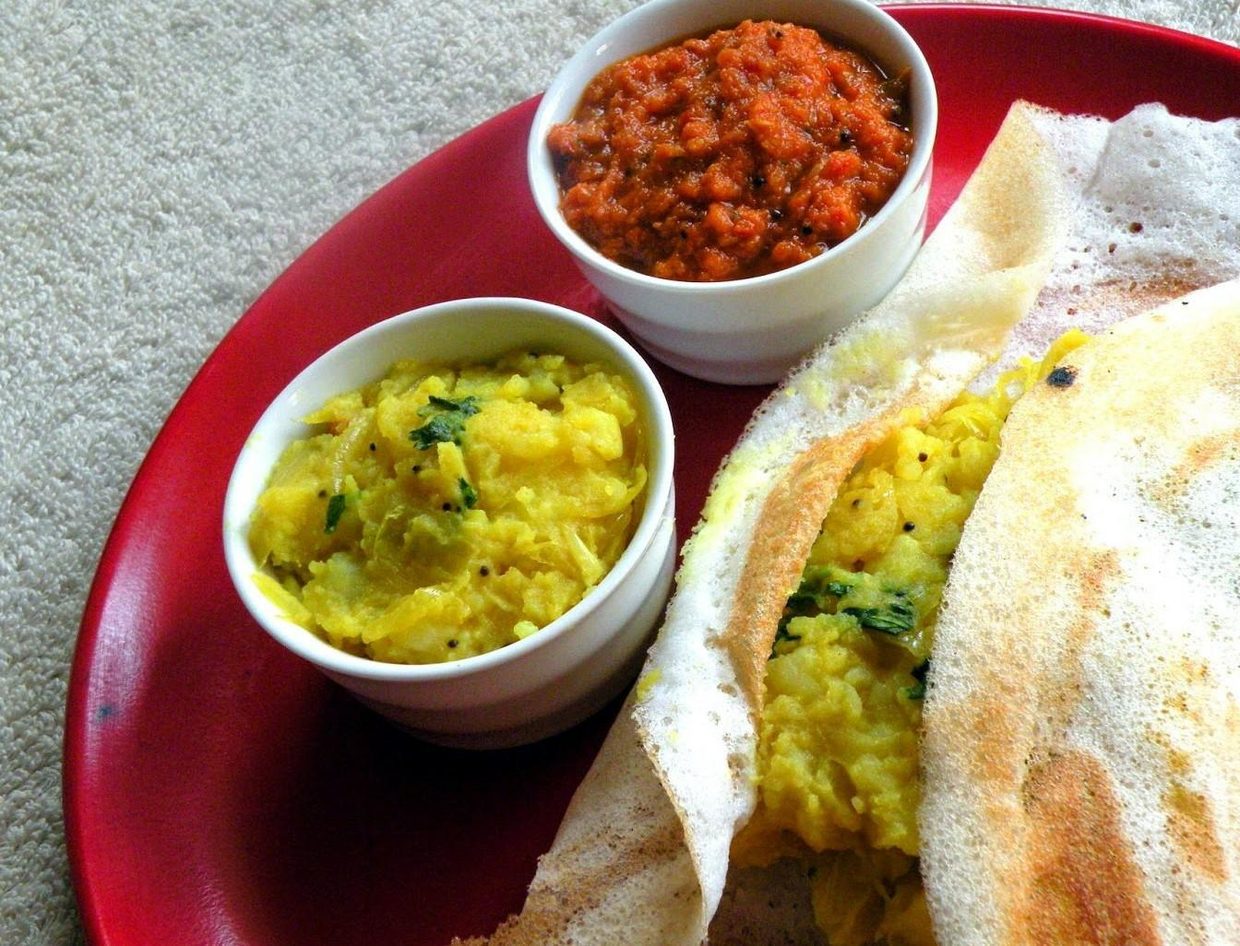Dosa: (460, 99, 1240, 946)
